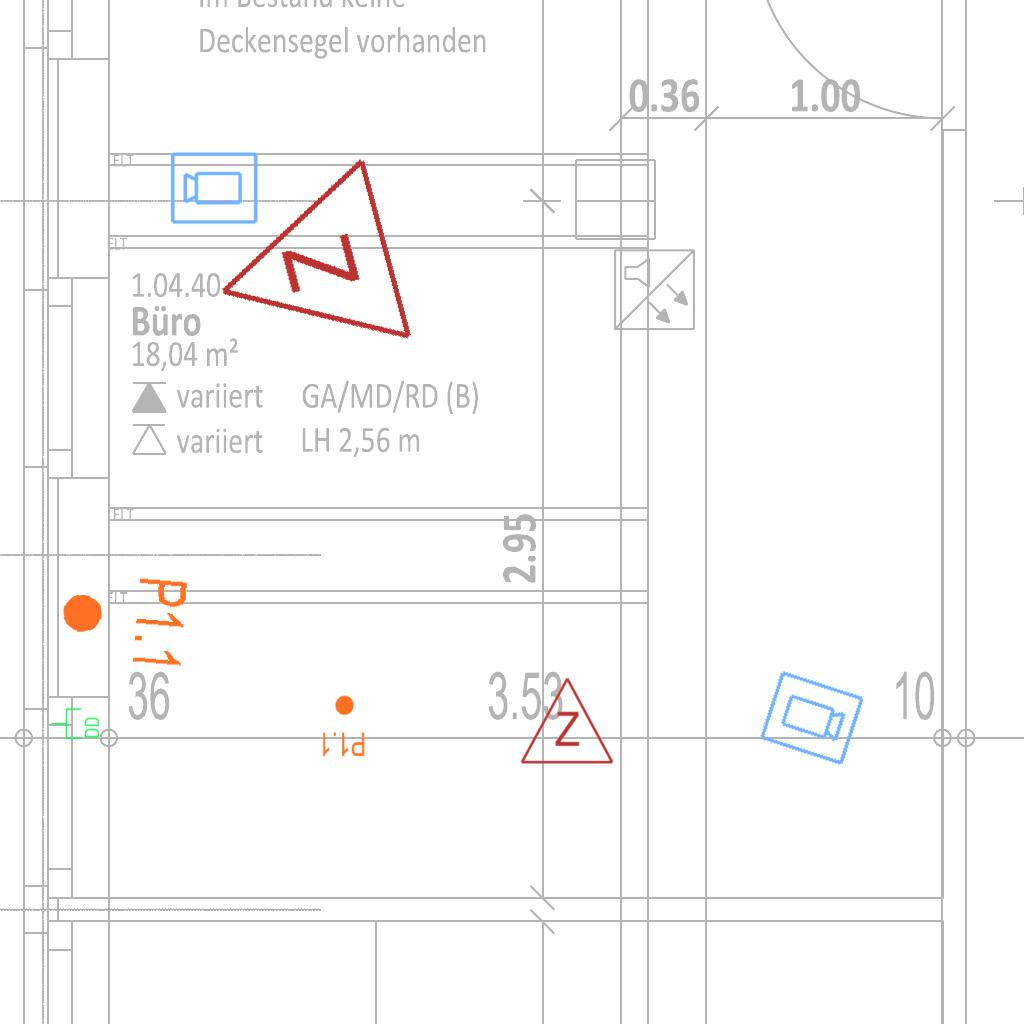Datenanschluss_zweifach: (50, 707, 101, 741)
Downlight_LED_Einbauleuchten_Flur: (55, 568, 192, 672), (320, 694, 366, 758)
KFO_Kamera_mit_Festobjektiv: (756, 667, 867, 770), (169, 149, 260, 226)
Zimmersignalleuchte: (184, 151, 428, 393), (517, 671, 615, 771)
